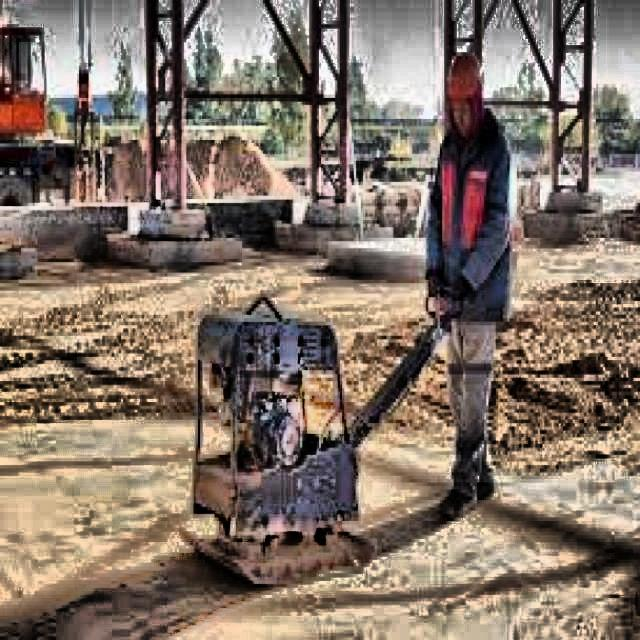bull_dozer/loader/grader: (0, 25, 103, 206)
person: (424, 51, 511, 520)
